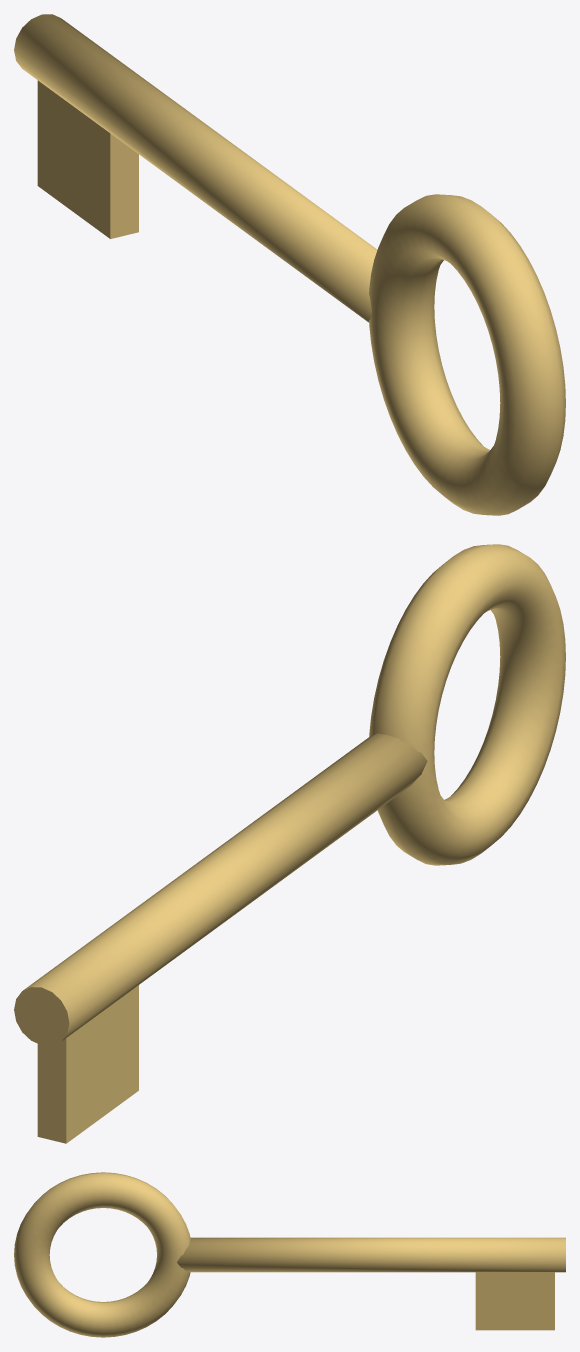
Rendered from key.fbx.
3 views of the same model, one above another, from view 1: azimuth 30°, elevation 25°; view 2: azimuth 150°, elevation 25°; view 3: azimuth 270°, elevation 25° (orthographic). The views are drawn at different scales.
Parts seen in each view (by area): view 1: key; view 2: key; view 3: key.
Part boxes in pixels (x1=…): key: x1=14, y1=14, x2=565, y2=515; key: x1=14, y1=544, x2=565, y2=1143; key: x1=14, y1=1172, x2=565, y2=1337.
Bounding box in the file's own units: 15.05 × 75.25 × 232.
